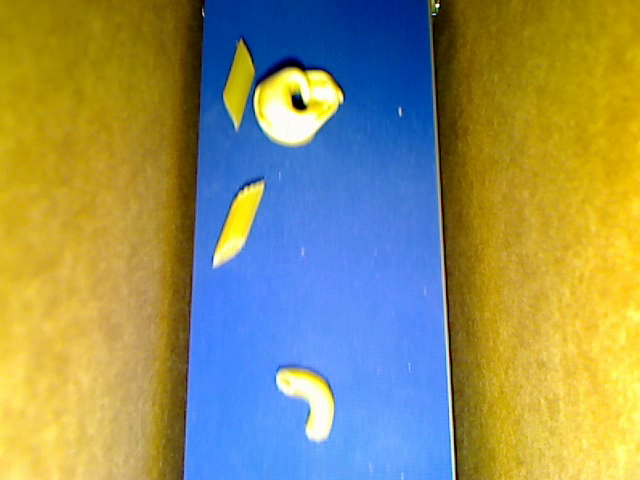elbow: (276, 367, 334, 443)
penne: (212, 179, 265, 266), (223, 38, 256, 131)
tortellini: (251, 66, 343, 146)
